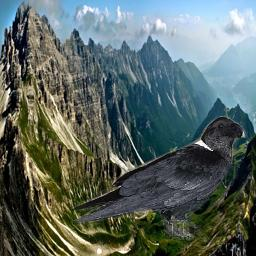Crow: (67, 116, 249, 246)
